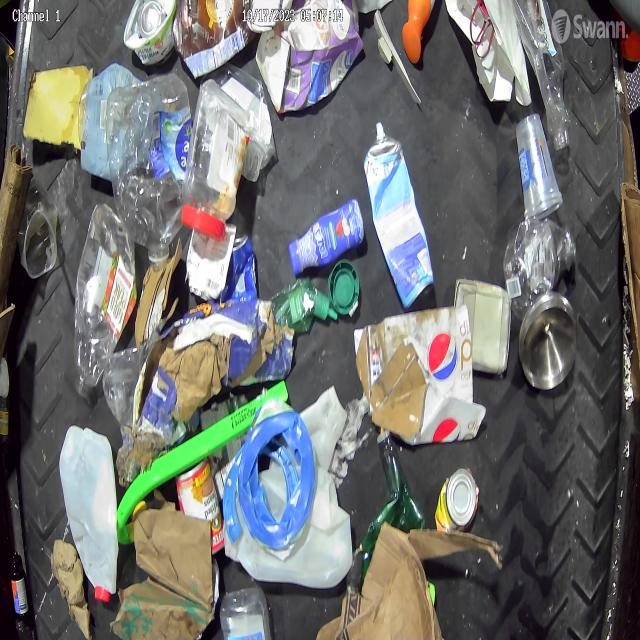can: (363, 130, 434, 308), (434, 468, 478, 534)
milk_jug: (59, 421, 120, 604)
non_white_jug: (255, 0, 364, 116)
plastic_bottle: (106, 73, 194, 266), (70, 203, 138, 395)
